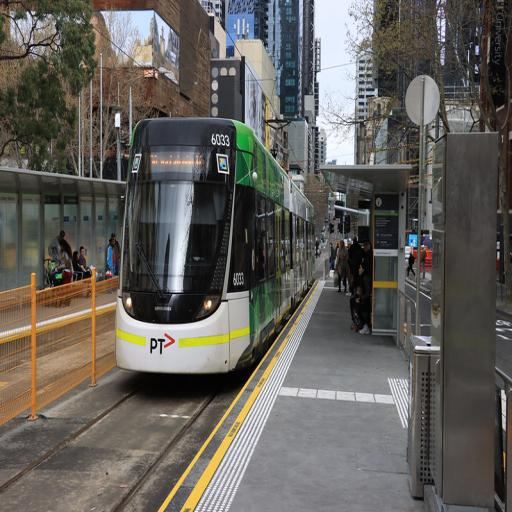Obstruction: (405, 131, 501, 511)
platform_edge: (162, 275, 329, 511)
tgsi: (279, 376, 408, 422)
